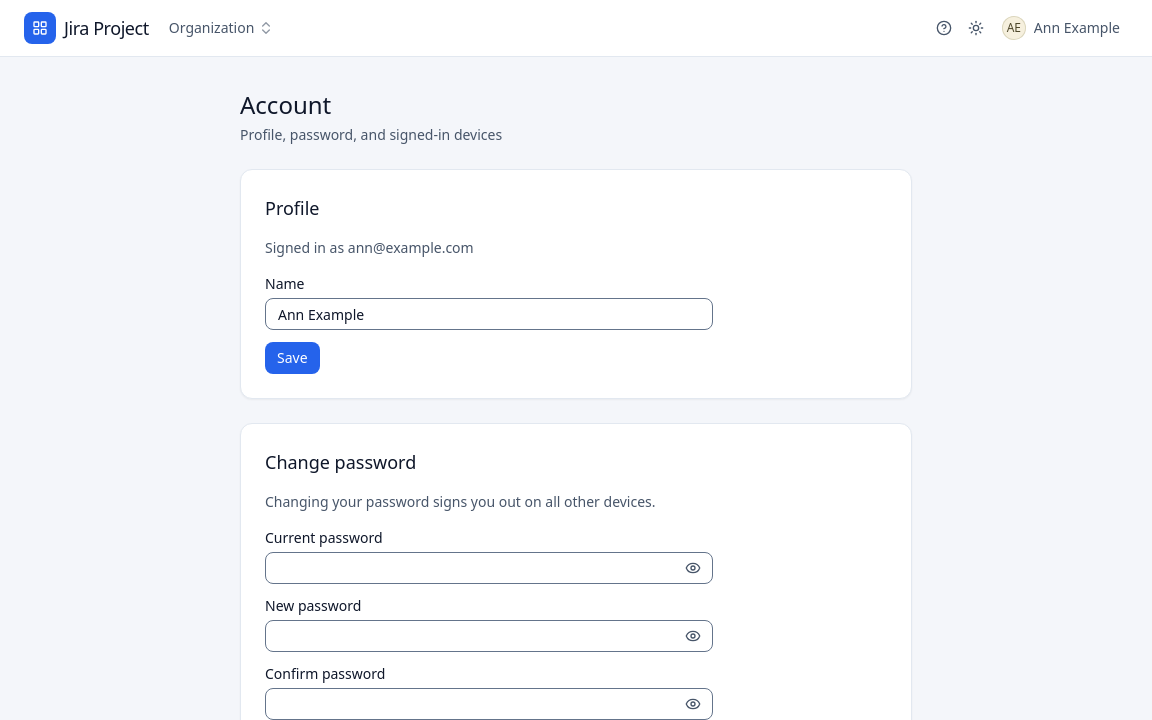
Scenario: theme picker in the account menu › applies and remembers the paper theme without closing the menu
The width and height of the screenshot is (1152, 720).
Click the button named "Open account menu": point(1061, 28) left=994, top=14, right=1128, bottom=42
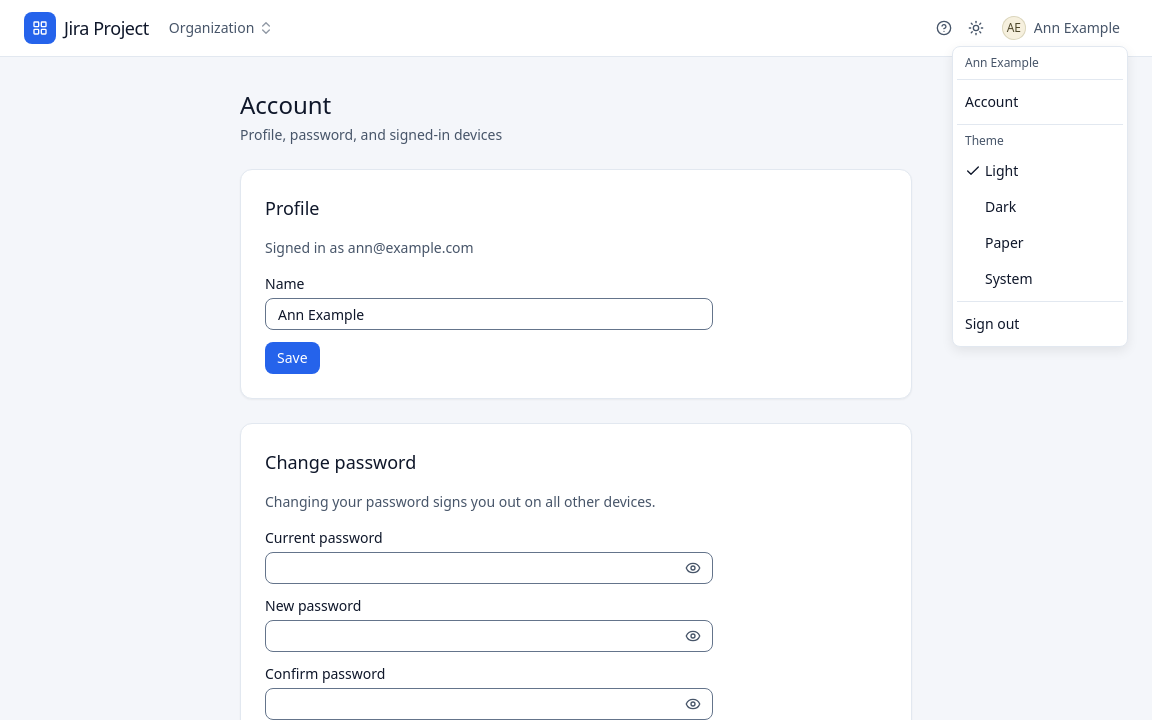
Click the menu item "Paper": point(1004, 242) left=985, top=233, right=1024, bottom=252
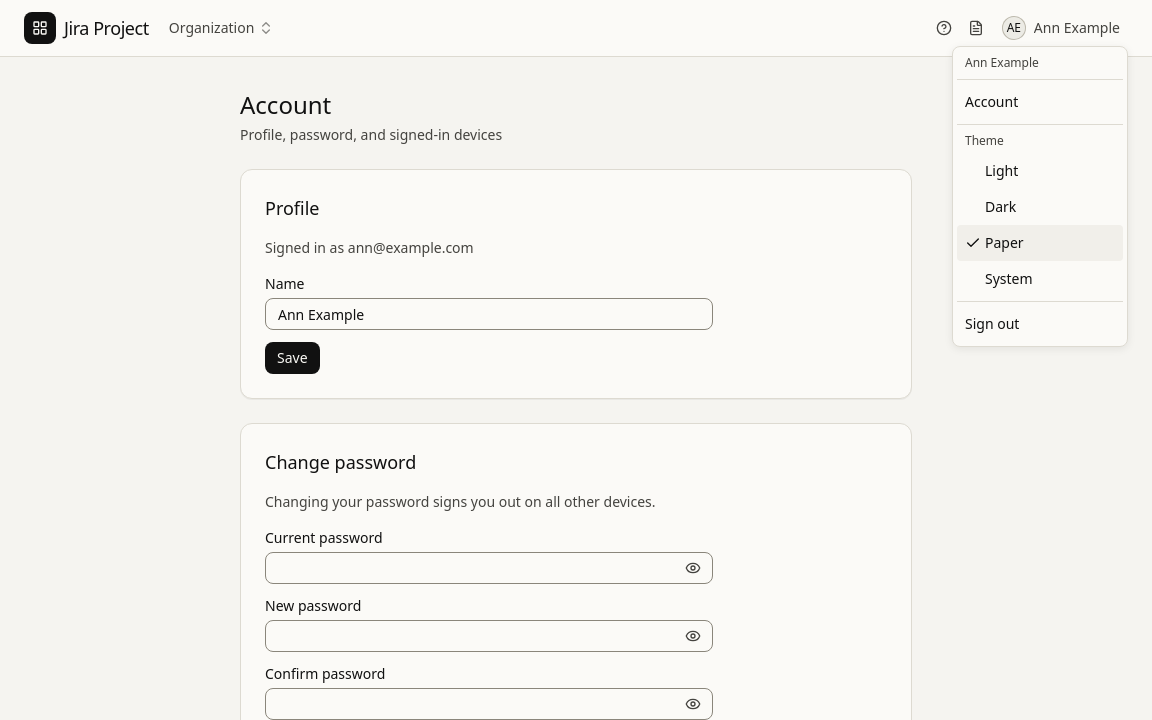
Now the menu item "Paper" is checked, box left=957, top=225, right=1123, bottom=261
Now the menu item "Light" is not checked, box left=985, top=161, right=1018, bottom=180
